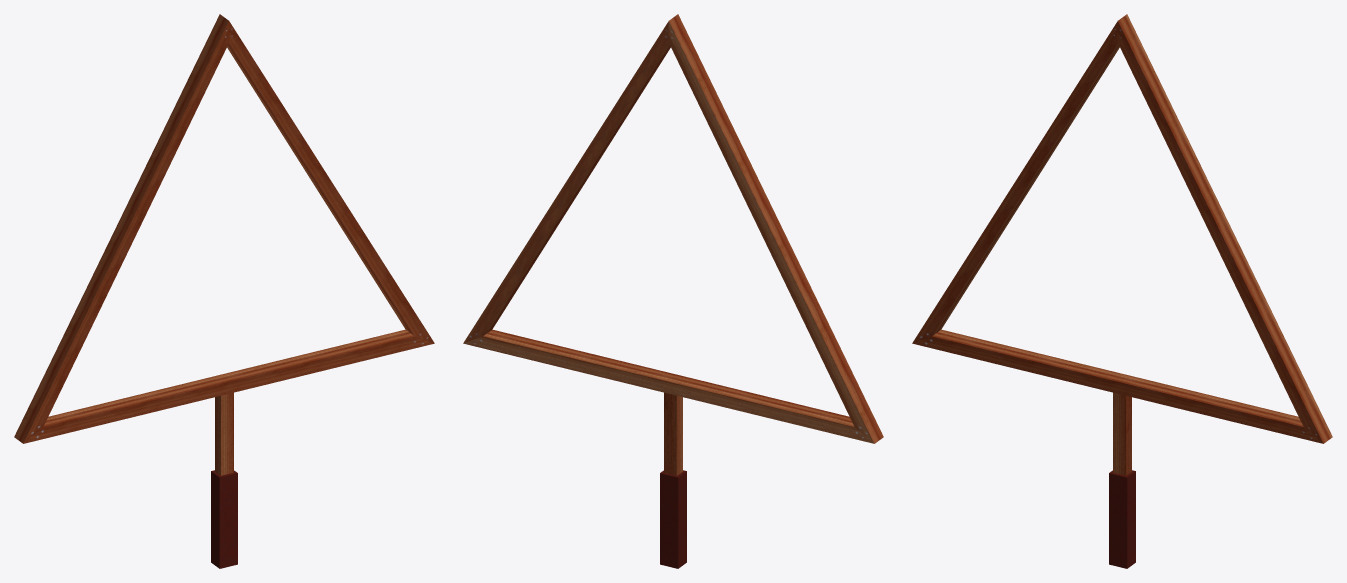
The model's file is triangleLeg.glb.
3 renders of one model, left to right at view 1: azimuth 30°, elevation 25°; view 2: azimuth 150°, elevation 25°; view 3: azimuth 330°, elevation 25°, orthographic.
Visible parts, largest first — view 1: Khung tam giac deu; view 2: Khung tam giac deu; view 3: Khung tam giac deu.
Part boxes in pixels (x1=…): Khung tam giac deu: x1=14, y1=14, x2=434, y2=568; Khung tam giac deu: x1=463, y1=14, x2=883, y2=568; Khung tam giac deu: x1=912, y1=14, x2=1332, y2=568.
Size of the model in its own units: 2.68 by 3.4 by 0.1052.
Materials: 1 (1 with a texture image).
